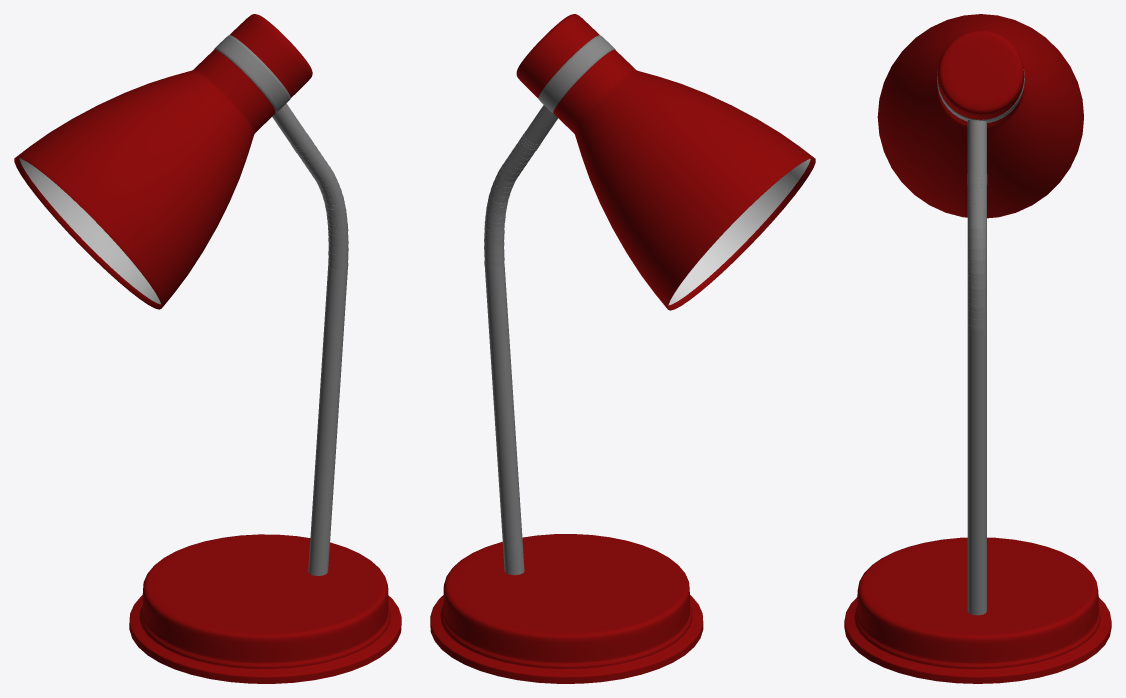
The model's file is desk lamp.FBX.
3 views of the same model, side by side, from view 1: azimuth 30°, elevation 25°; view 2: azimuth 150°, elevation 25°; view 3: azimuth 270°, elevation 25° (orthographic). The views are drawn at different scales.
Visible parts, largest first — view 1: Line01; view 2: Line01; view 3: Line01.
Boxes of the visible parts, left/top/right/bottom form: Line01: left=14, top=14, right=401, bottom=683; Line01: left=430, top=14, right=815, bottom=683; Line01: left=844, top=14, right=1111, bottom=683.
Bounding box in the file's own units: 154 × 258 × 105.
